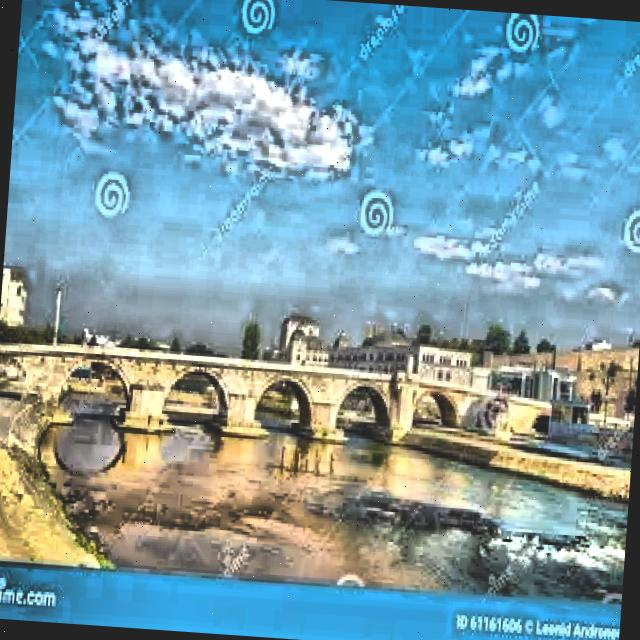stone bridge: (0, 344, 587, 459)
